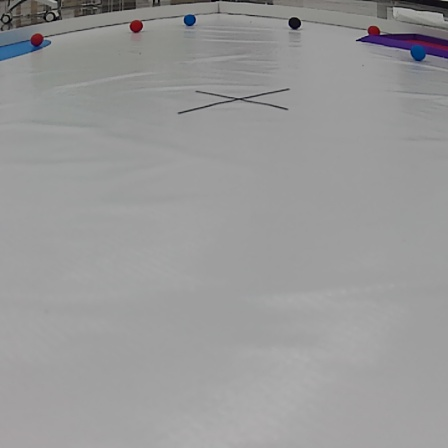black: (289, 15, 302, 29)
blue: (411, 43, 426, 63), (181, 15, 198, 27)
blue_base: (0, 36, 53, 60)
red: (128, 21, 143, 32), (364, 26, 382, 35), (32, 35, 44, 46)
red_aim: (354, 30, 448, 60)
